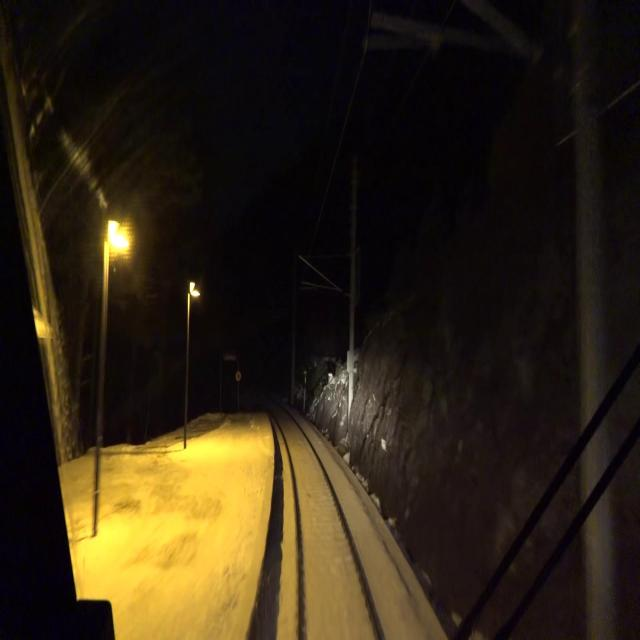rail-track: (265, 398, 379, 639)
